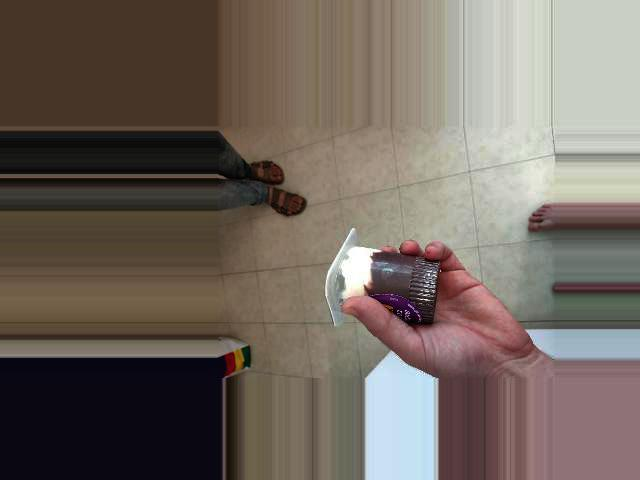milky: (319, 238, 431, 314)
